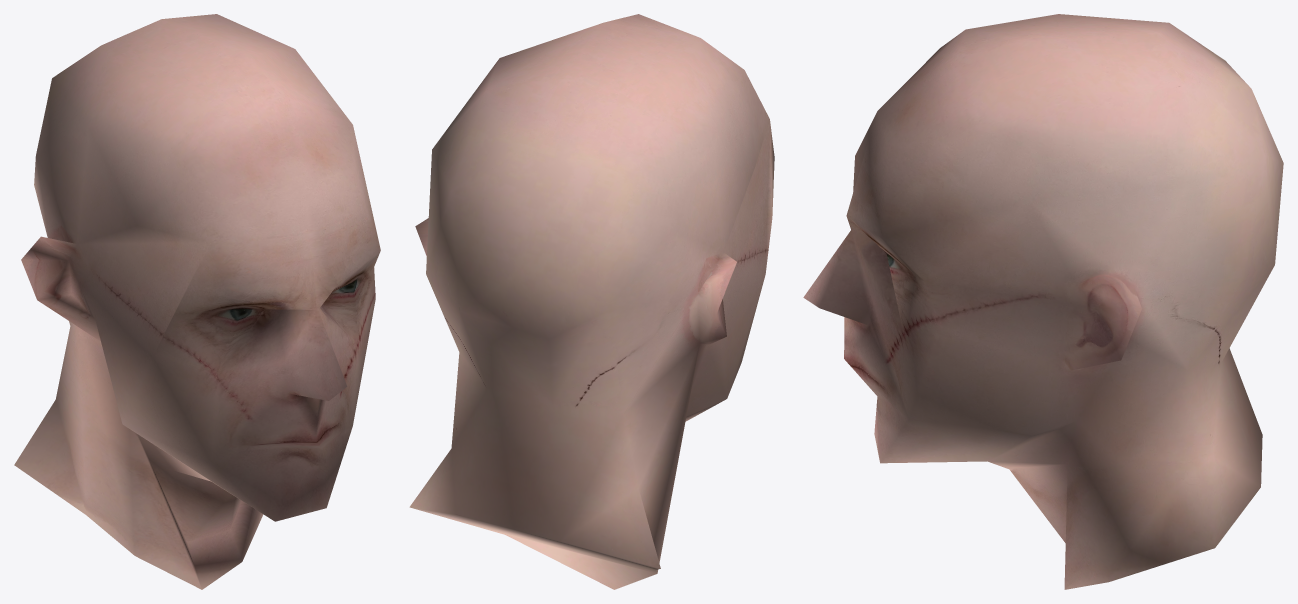
Rendered from head_200.glb.
3 views of the same model, side by side, from view 1: azimuth 30°, elevation 25°; view 2: azimuth 150°, elevation 25°; view 3: azimuth 270°, elevation 25° (orthographic). The views are drawn at different scales.
Visible parts, largest first — view 1: Mesh_0; view 2: Mesh_0; view 3: Mesh_0.
Boxes of the visible parts, x1,y1,x2,y2 form: Mesh_0: (14, 14, 380, 589); Mesh_0: (409, 14, 774, 589); Mesh_0: (803, 14, 1283, 589).
Size of the model in its own units: 1.13 by 1.94 by 1.5.
Materials: 1 (1 with a texture image).
